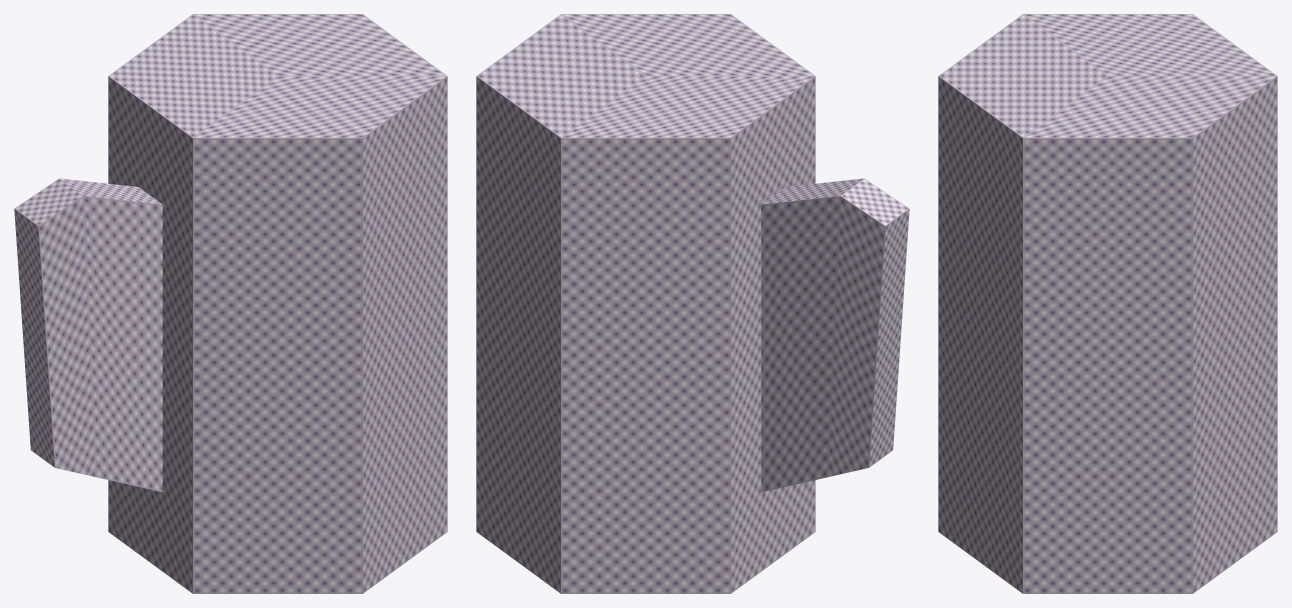
The model's file is mug.obj.
3 renders of one model, left to right at view 1: azimuth 30°, elevation 25°; view 2: azimuth 150°, elevation 25°; view 3: azimuth 270°, elevation 25°, orthographic.
Parts seen in each view (by area): view 1: Cylinder; view 2: Cylinder; view 3: Cylinder.
Part boxes in pixels (x1=…): Cylinder: x1=14, y1=14, x2=447, y2=593; Cylinder: x1=476, y1=14, x2=909, y2=593; Cylinder: x1=938, y1=14, x2=1277, y2=593.
Bounding box in the file's own units: 0.1933 × 0.2222 × 0.15.
